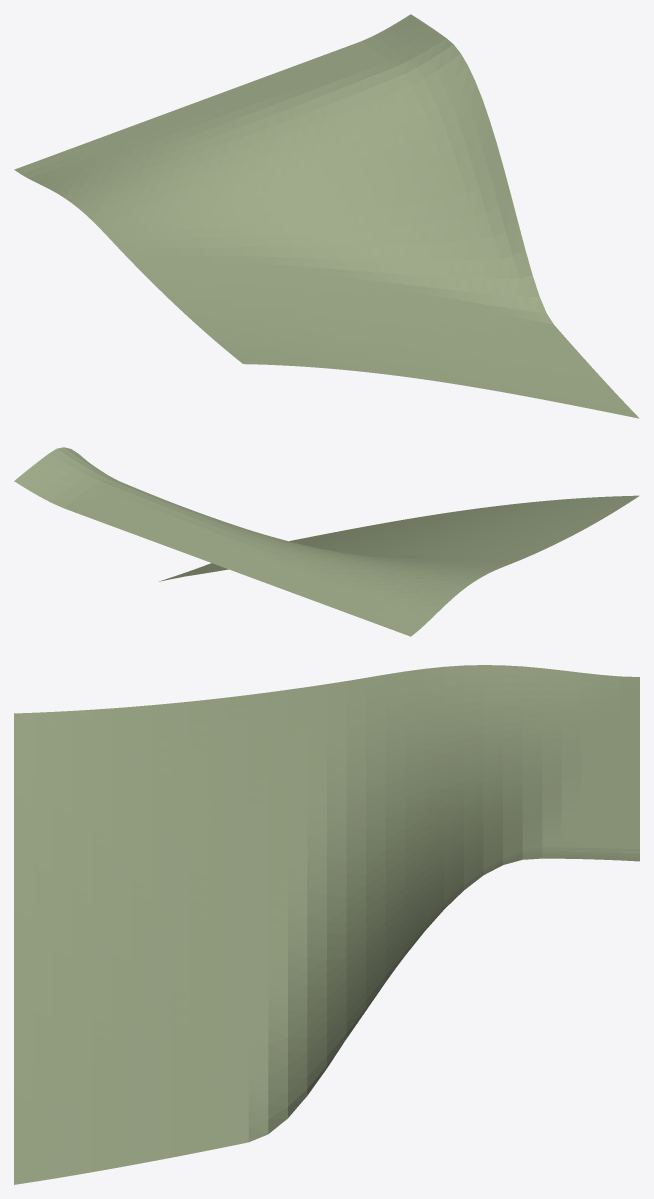
Rendered from alpine-10-3.glb.
3 renders of one model, top to bottom at view 1: azimuth 30°, elevation 25°; view 2: azimuth 150°, elevation 25°; view 3: azimuth 270°, elevation 25°, orthographic. The views are drawn at different scales.
Visible parts, largest first — view 1: alpine-10-3; view 2: alpine-10-3; view 3: alpine-10-3.
Part boxes in pixels (x1=…): alpine-10-3: x1=14, y1=14, x2=639, y2=418; alpine-10-3: x1=14, y1=447, x2=639, y2=636; alpine-10-3: x1=14, y1=665, x2=639, y2=1184.
Size of the model in its own units: 256 by 147 by 256.
